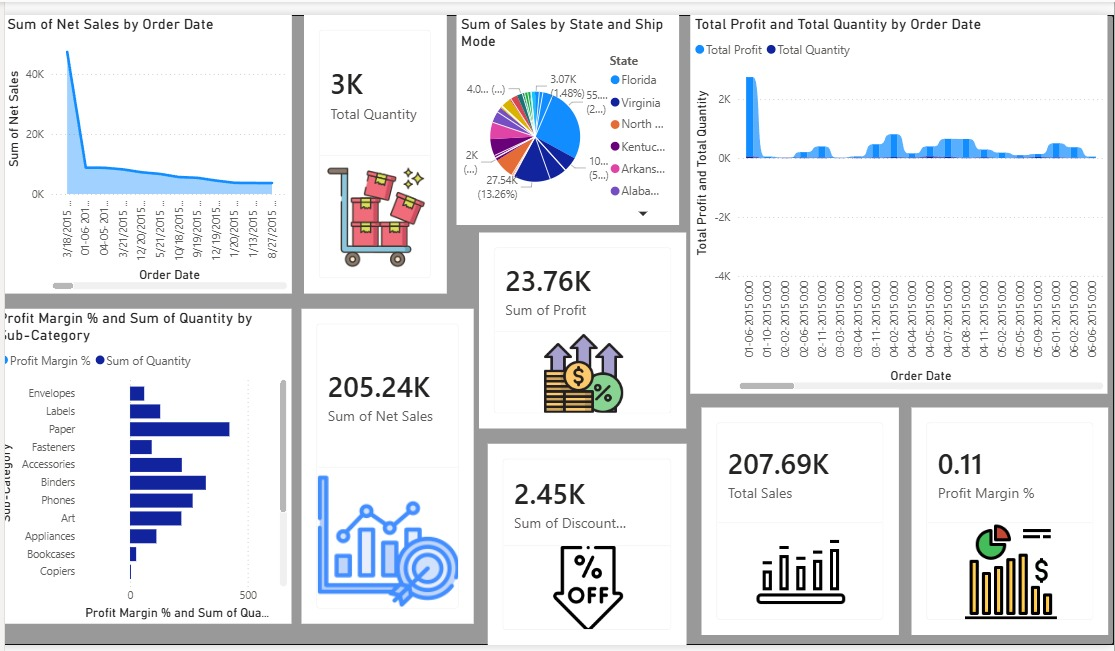

This screenshot's page, from the dashboard's own definition file:
{"tool":"powerbi","page":{"name":"Page 1","canvas":[1280,720],"ordinal":0},"visuals":[{"type":"stackedAreaChart","fields":{"Category":["Order_Table.Order Date"],"Y":["Sum(Order_Table.Net Sales)"]},"box":[10,14.3,330,304.3],"z":0},{"type":"cardVisual","fields":{"Data":["Order_Table.Total Quantity"]},"box":[354.3,14.3,162.9,304.3],"z":2000},{"type":"cardVisual","fields":{"Data":["Order_Table.Total Sales"]},"box":[808.6,448.6,225.7,260],"z":3000},{"type":"ribbonChart","fields":{"Category":["Order_Table.Order ID","Order_Table.Order Date"],"Y":["Order_Table.Total Profit","Order_Table.Total Quantity"]},"box":[795.7,14.3,477.1,418.6],"z":4000},{"type":"pieChart","fields":{"Category":["Order_Table.State","Order_Table.Ship Date"],"Series":["Order_Table.Ship Mode"],"Y":["Sum(Order_Table.Sales)"]},"box":[528.6,14.3,254.3,225.7],"z":5000},{"type":"barChart","fields":{"Category":["Order_Table.Sub-Category"],"Y":["Order_Table.Profit Margin %","Sum(Order_Table.Quantity)"]},"box":[0,335.7,340,360],"z":6000},{"type":"cardVisual","fields":{"Data":["Sum(Order_Table.Discount Amount)"]},"box":[564.3,490,227.1,205.7],"z":6001},{"type":"cardVisual","fields":{"Data":["Sum(Order_Table.Net Sales)"]},"box":[351.4,335.7,197.1,360],"z":6002},{"type":"cardVisual","fields":{"Data":["Sum(Order_Table.Profit)"]},"box":[554.3,248.6,237.1,224.3],"z":6003},{"type":"cardVisual","fields":{"Data":["Order_Table.Profit Margin %"]},"box":[1048,449,225,260],"z":6004}]}

Visuals, with their boxes in screenshot pixels (x1, y1, x2, y2):
stackedAreaChart - Order_Table.Order Date x Sum(Order_Table.Net Sales): [0, 19, 280, 290]
cardVisual - Order_Table.Total Quantity: [292, 19, 437, 290]
cardVisual - Order_Table.Total Sales: [697, 405, 898, 637]
ribbonChart - Order_Table.Order ID x Order_Table.Order Date: [685, 19, 1110, 391]
pieChart - Order_Table.State x Order_Table.Ship Date: [448, 19, 674, 220]
barChart - Order_Table.Sub-Category x Order_Table.Profit Margin %: [0, 305, 280, 625]
cardVisual - Sum(Order_Table.Discount Amount): [479, 442, 682, 625]
cardVisual - Sum(Order_Table.Net Sales): [290, 305, 465, 625]
cardVisual - Sum(Order_Table.Profit): [470, 227, 682, 427]
cardVisual - Order_Table.Profit Margin %: [910, 406, 1111, 637]
